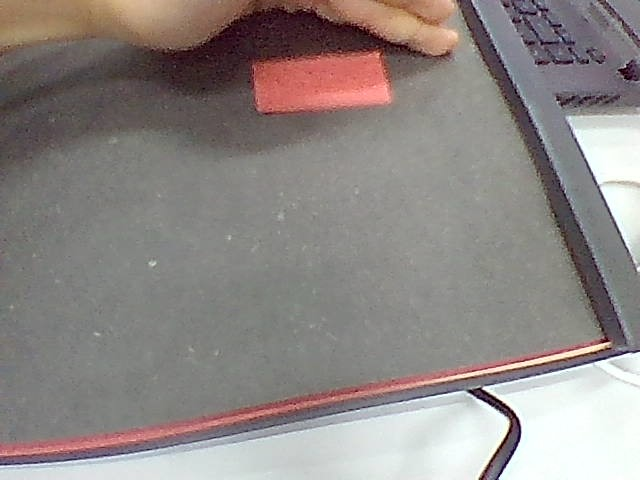card: (253, 51, 392, 113)
